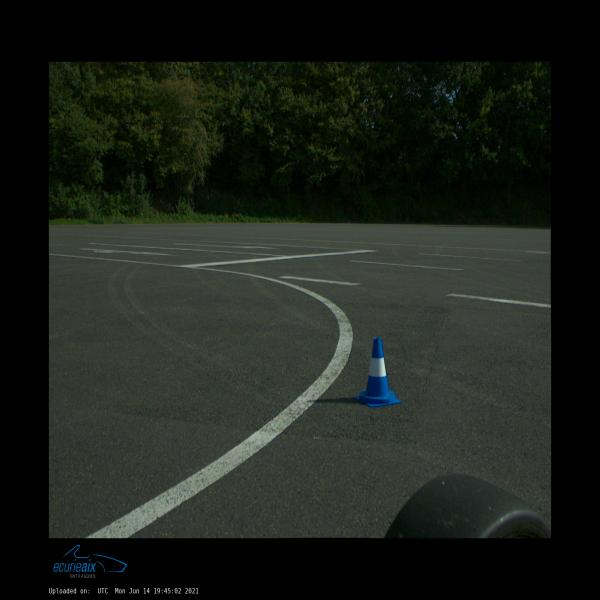blue_cone: (354, 338, 401, 408)
